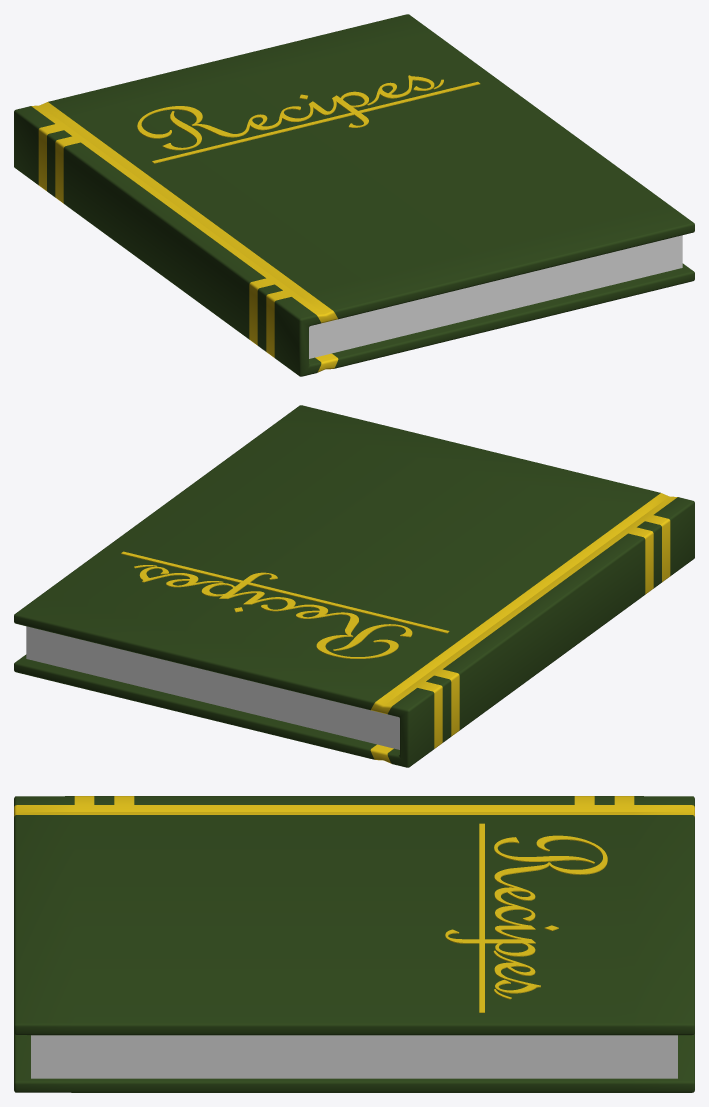
File: ksiazkakucharska.fbx
The picture shows the model from 3 angles, top to bottom: view 1: azimuth 30°, elevation 25°; view 2: azimuth 150°, elevation 25°; view 3: azimuth 270°, elevation 25°; orthographic projection. The views are drawn at different scales.
Parts seen in each view (by area): view 1: Cube.001, Cube, Text, Cube.002; view 2: Cube.001, Cube, Text, Cube.002; view 3: Cube.001, Cube, Text, Cube.002.
Part boxes in pixels (x1,y1,x2,y2): Cube.001: [14, 14, 694, 376]; Cube: [309, 235, 682, 358]; Text: [137, 75, 443, 150]; Cube.002: [152, 81, 480, 163]; Cube.001: [14, 405, 694, 767]; Cube: [26, 626, 399, 749]; Text: [134, 565, 412, 658]; Cube.002: [121, 551, 449, 633]; Cube.001: [14, 796, 694, 1092]; Cube: [31, 1035, 677, 1078]; Text: [445, 835, 607, 999]; Cube.002: [479, 823, 484, 1012].
Bounding box in the file's own units: 398 × 56.89 × 500.
